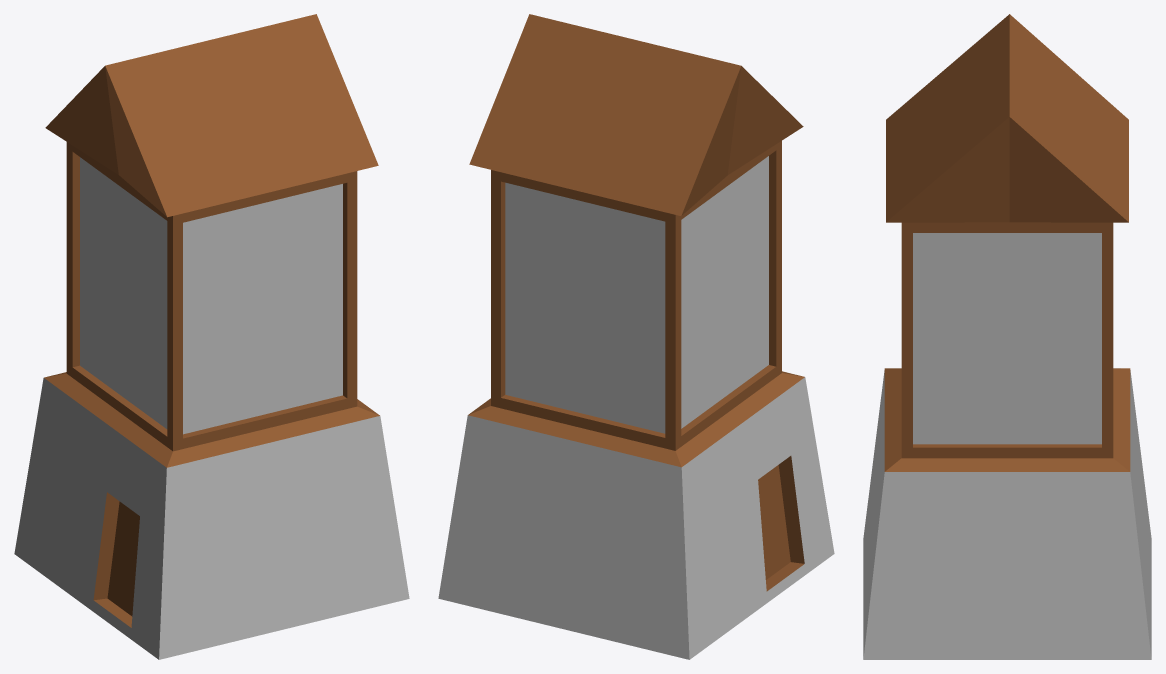
The model's file is mill.obj.
3 views of the same model, side by side, from view 1: azimuth 30°, elevation 25°; view 2: azimuth 150°, elevation 25°; view 3: azimuth 270°, elevation 25° (orthographic).
Visible parts, largest first — view 1: Mill; view 2: Mill; view 3: Mill.
Boxes of the visible parts, x1,y1,x2,y2 form: Mill: [14, 14, 409, 659]; Mill: [438, 14, 834, 659]; Mill: [863, 14, 1151, 659].
Size of the model in its own units: 1.22 by 2.49 by 1.22.
